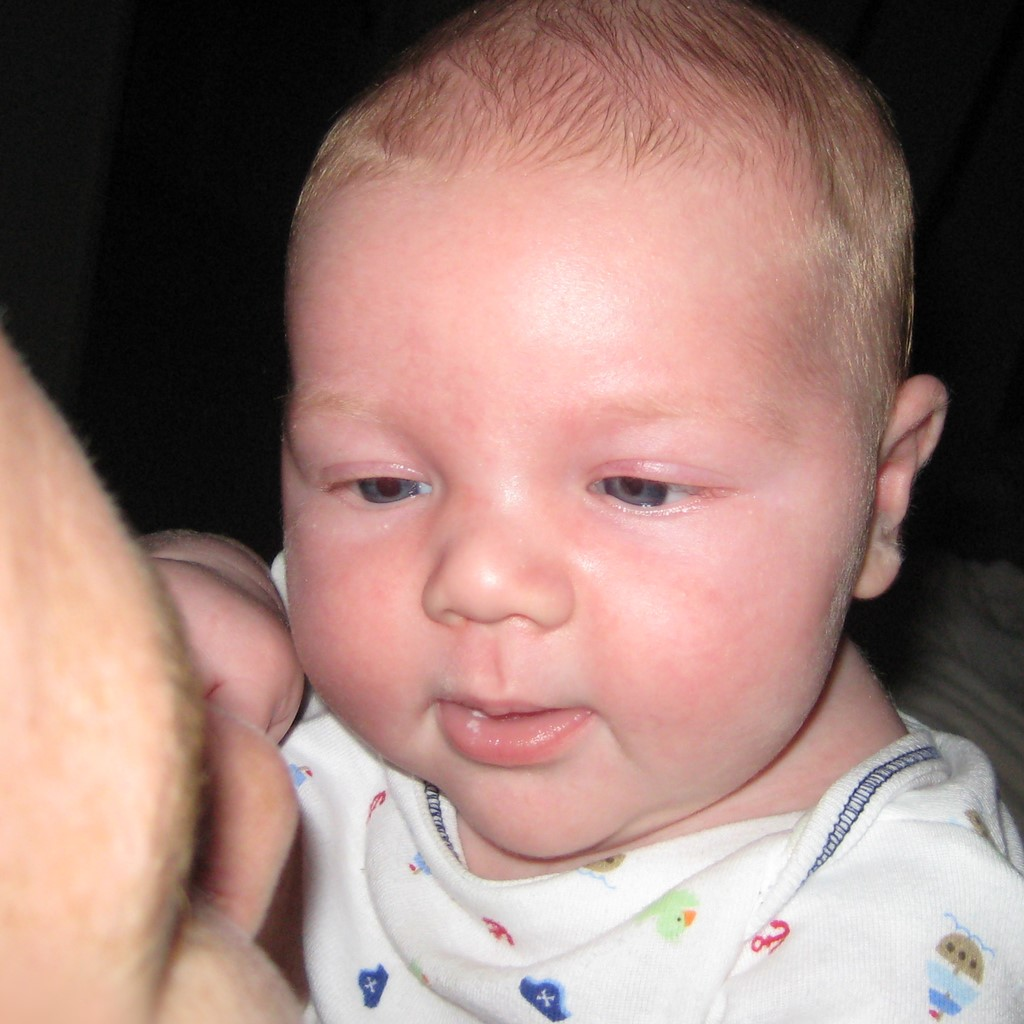sin_mascara: (284, 90, 845, 844)
